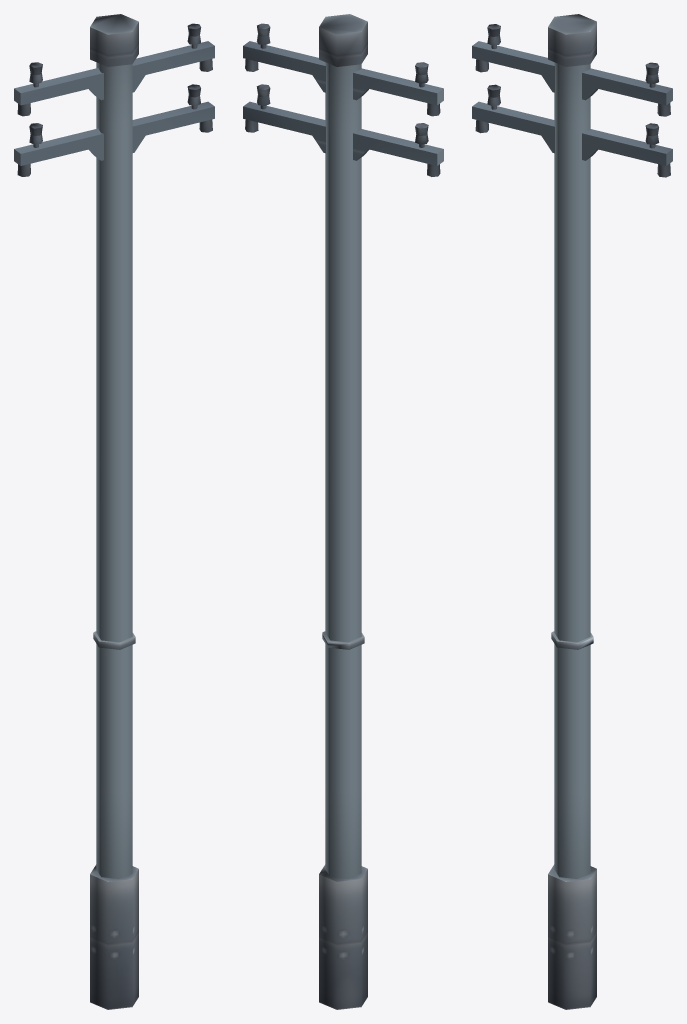
The model's file is Electric_pole2_LOD1.fbx.
3 views of the same model, side by side, from view 1: azimuth 30°, elevation 25°; view 2: azimuth 150°, elevation 25°; view 3: azimuth 330°, elevation 25° (orthographic).
Parts seen in each view (by area): view 1: polySurface145; view 2: polySurface145; view 3: polySurface145.
Part boxes in pixels (bbox=[...]): polySurface145: bbox=[14, 14, 214, 1009]; polySurface145: bbox=[243, 14, 443, 1009]; polySurface145: bbox=[472, 14, 672, 1009].
Size of the model in its own units: 133 by 637 by 29.1.
